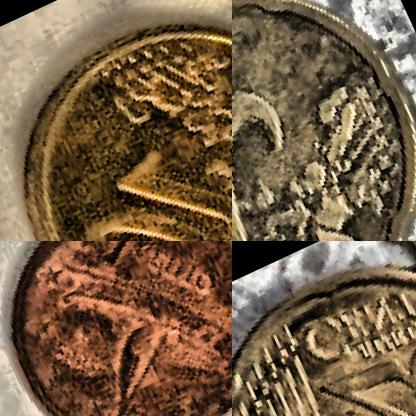coin: (0, 0, 231, 240), (232, 0, 415, 240), (0, 241, 231, 415), (232, 241, 415, 415)
